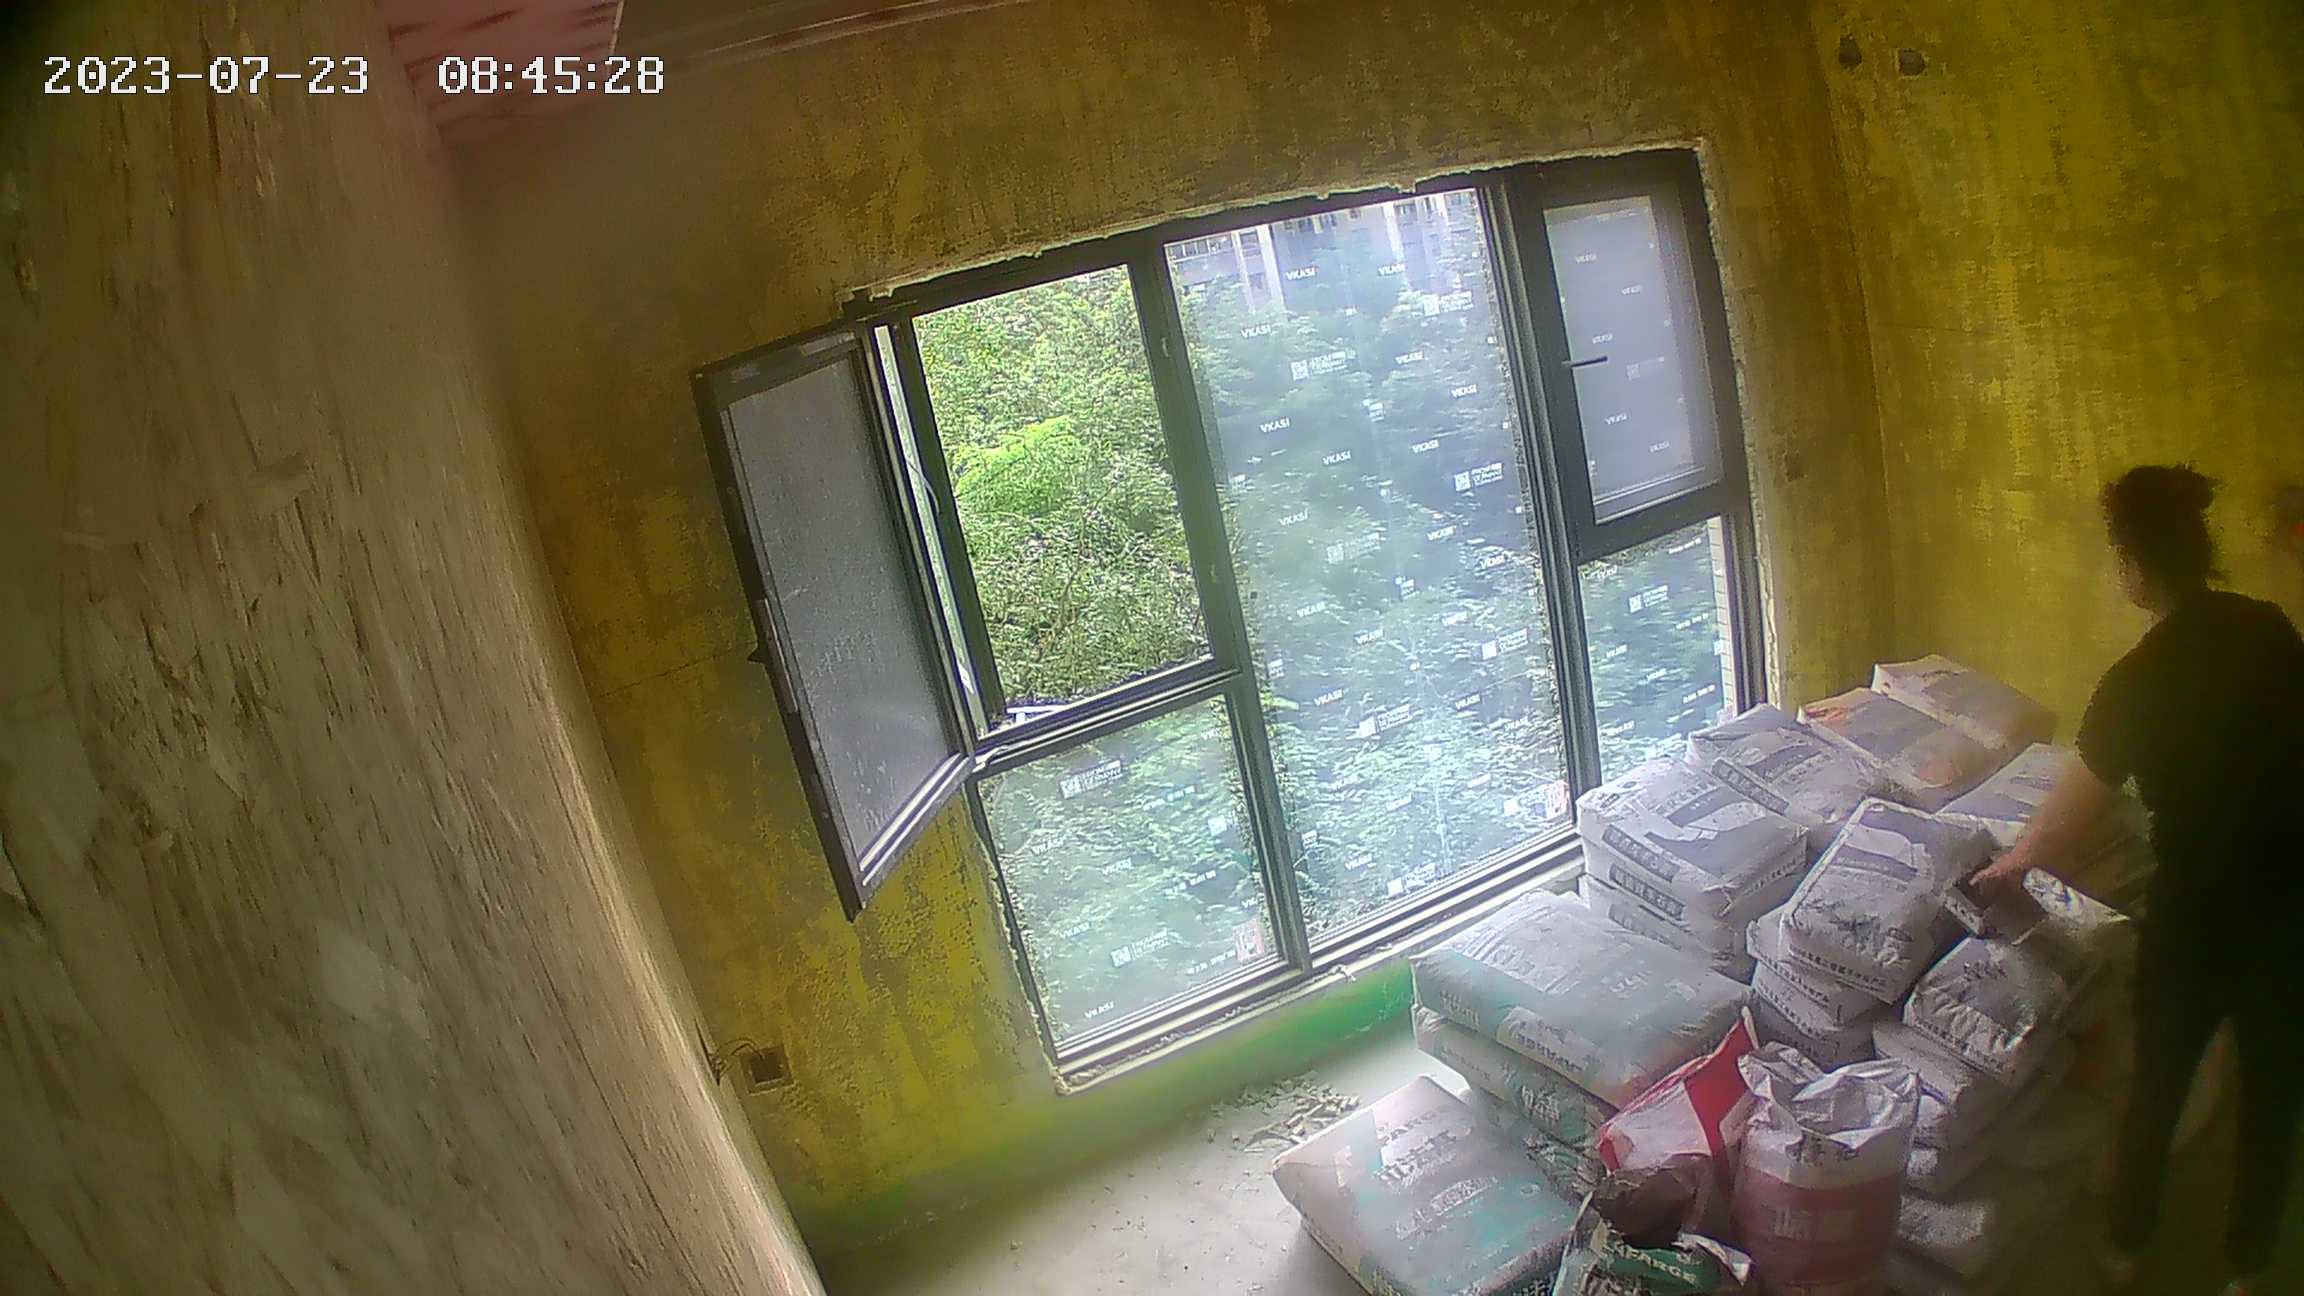people: (1979, 459, 2304, 1281)
window: (1022, 185, 1710, 1069)
